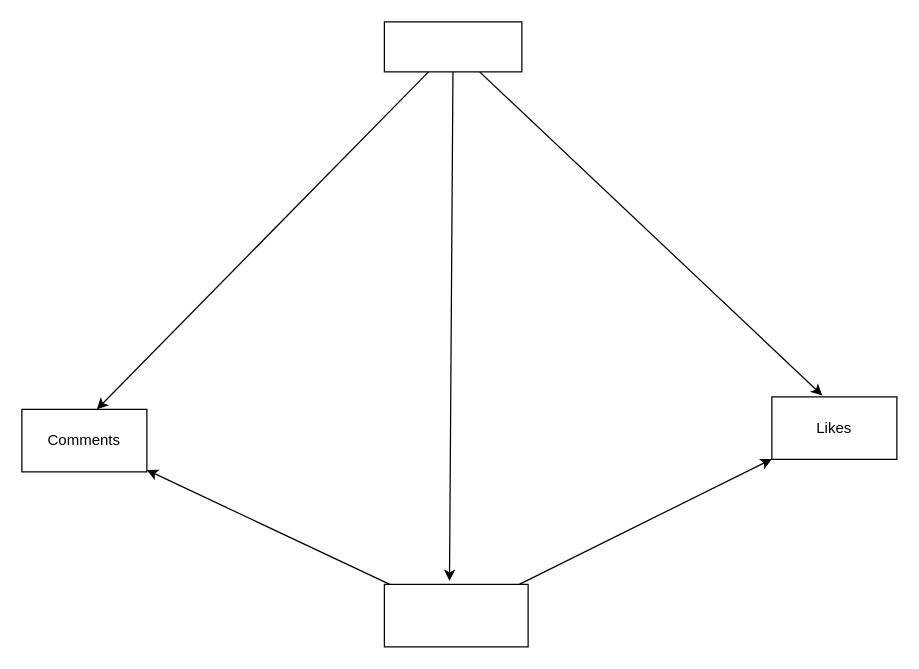
The diagram is 919 pixels wide and 669 high, and some of its shapes have lost their labels. Each missing label, with the centre of its shape:
"Post" goes at pixel 455 615.
"User" goes at pixel 452 46.
